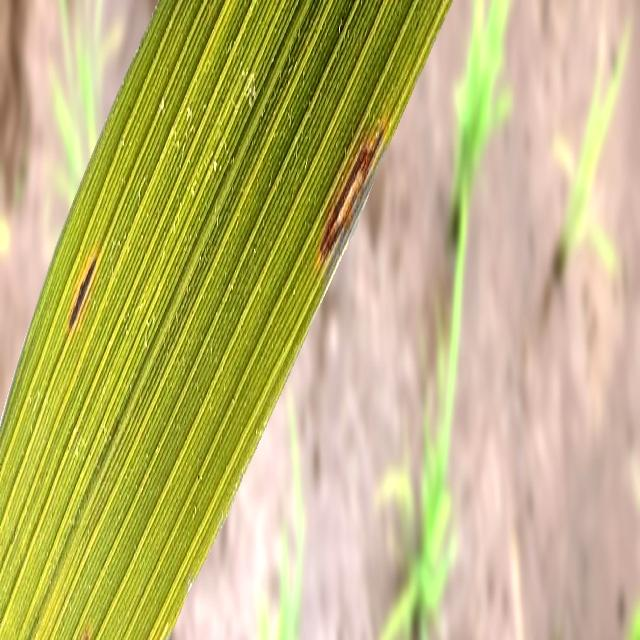LEAF BLAST: (320, 129, 383, 261)
